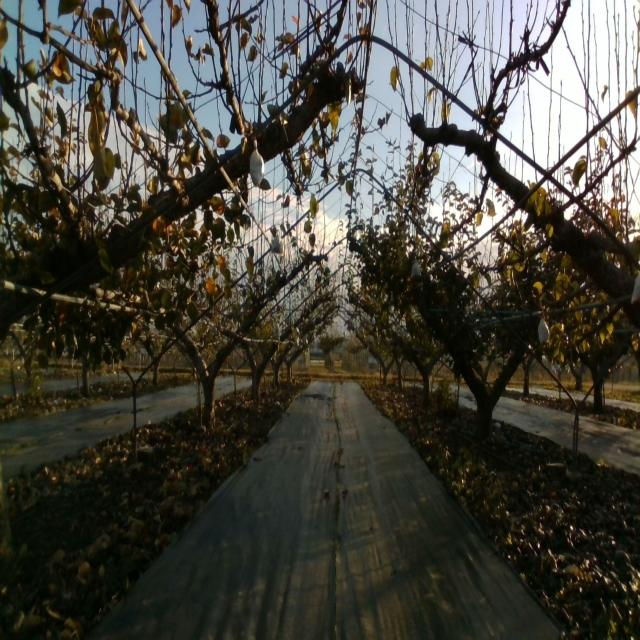pearbags: (249, 140, 265, 188), (538, 316, 550, 343), (270, 233, 284, 254), (409, 259, 422, 278)
